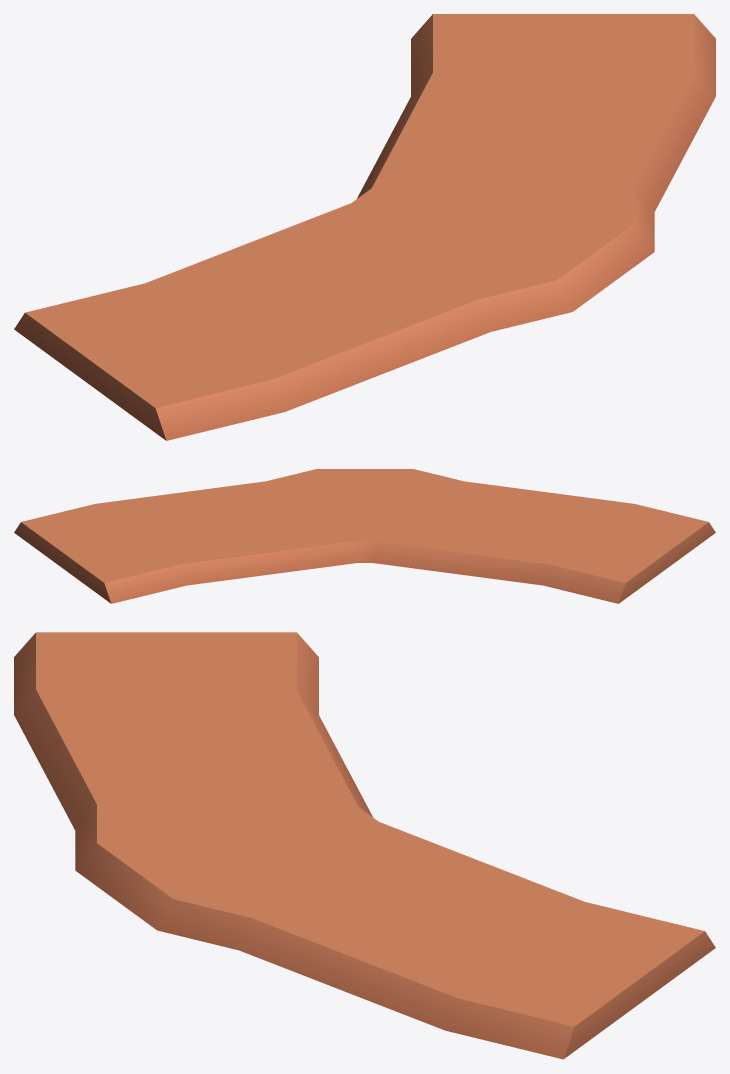
The model's file is kenney-hexagon-path-corner.glb.
The picture shows the model from 3 angles, top to bottom: view 1: azimuth 30°, elevation 25°; view 2: azimuth 150°, elevation 25°; view 3: azimuth 270°, elevation 25°; orthographic projection. The views are drawn at different scales.
Visible parts, largest first — view 1: path_corner; view 2: path_corner; view 3: path_corner.
Boxes of the visible parts, bbox=[...] form: path_corner: bbox=[14, 14, 715, 440]; path_corner: bbox=[14, 469, 715, 603]; path_corner: bbox=[14, 632, 715, 1059].
Bounding box in the file's own units: 0.8708 × 0.025 × 0.6422.
Materials: 1 (1 with a texture image).
